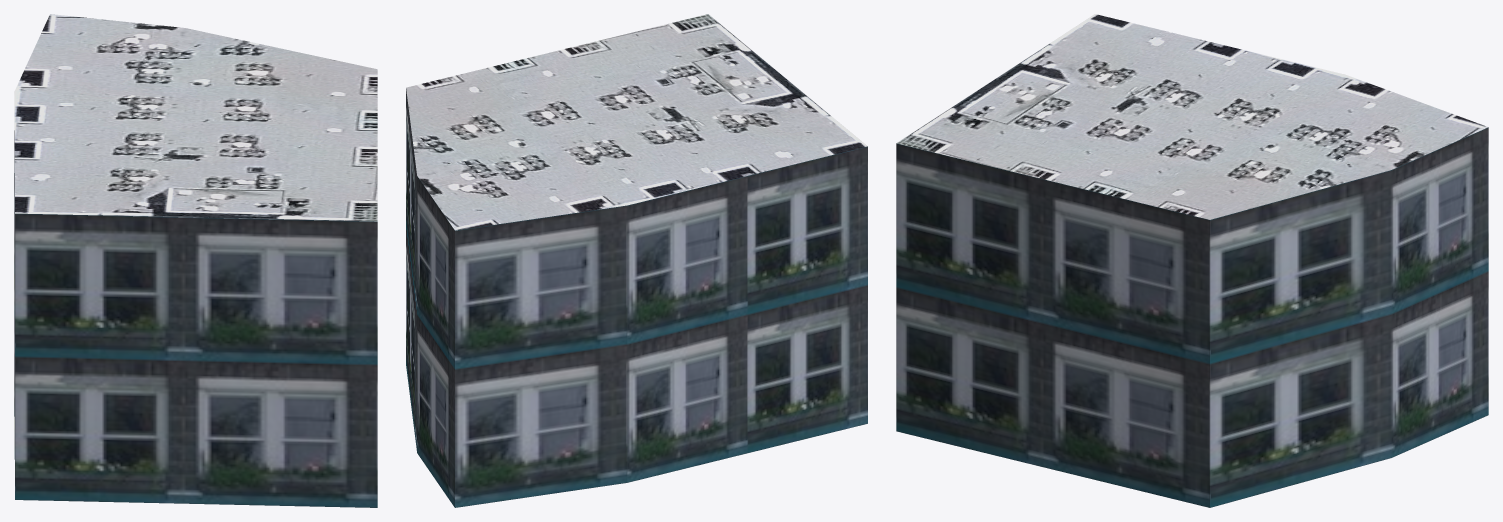
File: ResTex__637.fbx
The picture shows the model from 3 angles, left to right: view 1: azimuth 30°, elevation 25°; view 2: azimuth 150°, elevation 25°; view 3: azimuth 270°, elevation 25°; orthographic projection. The views are drawn at different scales.
Parts seen in each view (by area): view 1: CityEngineMaterial_11_m, CityEngineMaterial_8_m; view 2: CityEngineMaterial_11_m, CityEngineMaterial_8_m; view 3: CityEngineMaterial_11_m, CityEngineMaterial_8_m.
Part boxes in pixels (x1,y1,x2,y2): CityEngineMaterial_11_m: (14,130,377,507); CityEngineMaterial_8_m: (14,14,377,221); CityEngineMaterial_11_m: (406,89,867,507); CityEngineMaterial_8_m: (406,14,867,230); CityEngineMaterial_11_m: (896,127,1488,507); CityEngineMaterial_8_m: (897,14,1488,219).
Bounding box in the file's own units: 9.2 × 6 × 11.18.
Materials: 2 (2 with a texture image).
